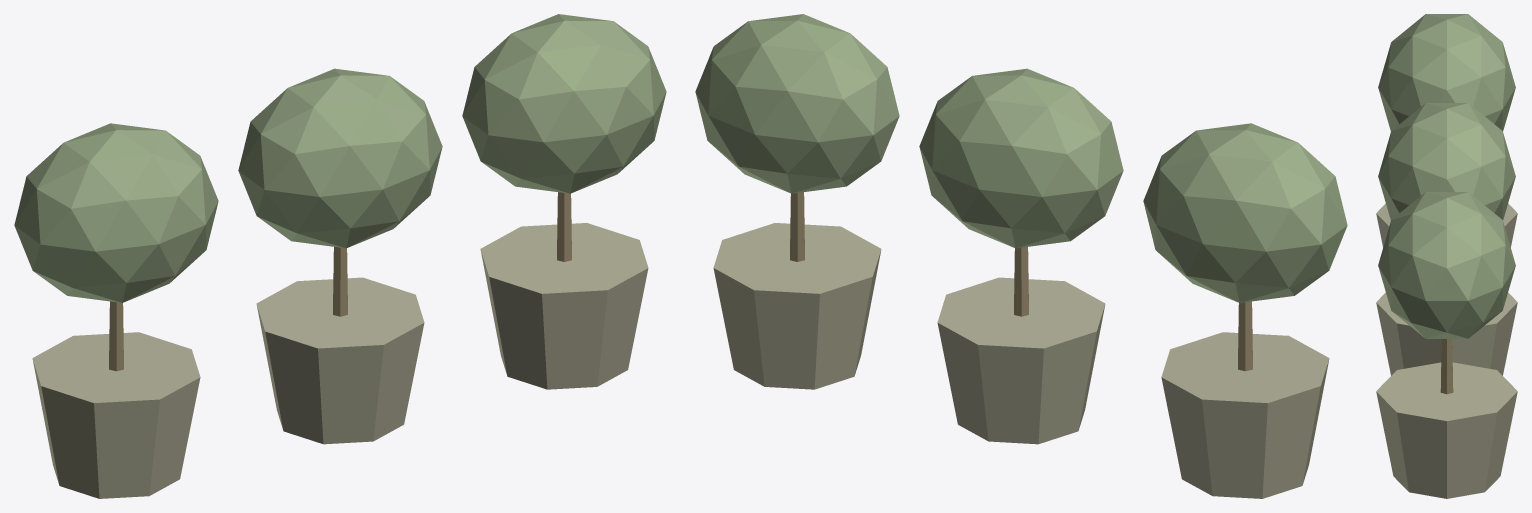
File: map-exclusive-v3__champion_16.glb
3 renders of one model, left to right at view 1: azimuth 30°, elevation 25°; view 2: azimuth 150°, elevation 25°; view 3: azimuth 270°, elevation 25°, orthographic. The views are drawn at different scales.
Visible parts, largest first — view 1: champion_16; view 2: champion_16; view 3: champion_16.
Boxes of the visible parts, bbox=[...] form: champion_16: bbox=[14, 14, 666, 498]; champion_16: bbox=[695, 14, 1347, 498]; champion_16: bbox=[1376, 14, 1517, 498].
Bounding box in the file's own units: 3.07 × 1.6 × 0.7401.
